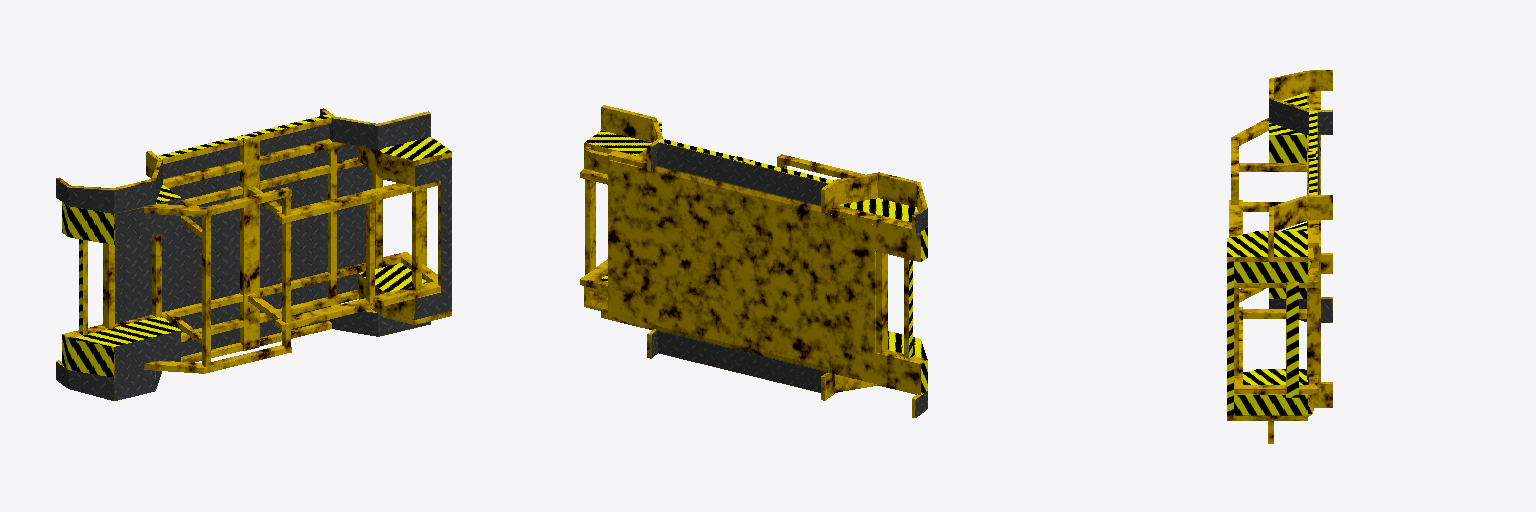
The picture shows the model from 3 angles: view 1: azimuth 30°, elevation 25°; view 2: azimuth 150°, elevation 25°; view 3: azimuth 270°, elevation 25°; orthographic projection.
Parts seen in each view (by area): view 1: Plane; view 2: Plane; view 3: Plane.
Boxes of the visible parts, <box> form: Plane: <box>56,108,451,400</box>; Plane: <box>580,105,927,417</box>; Plane: <box>1227,70,1332,443</box>.
Size of the model in its own units: 2.12 by 1.23 by 0.5556.
Materials: 1 (1 with a texture image).